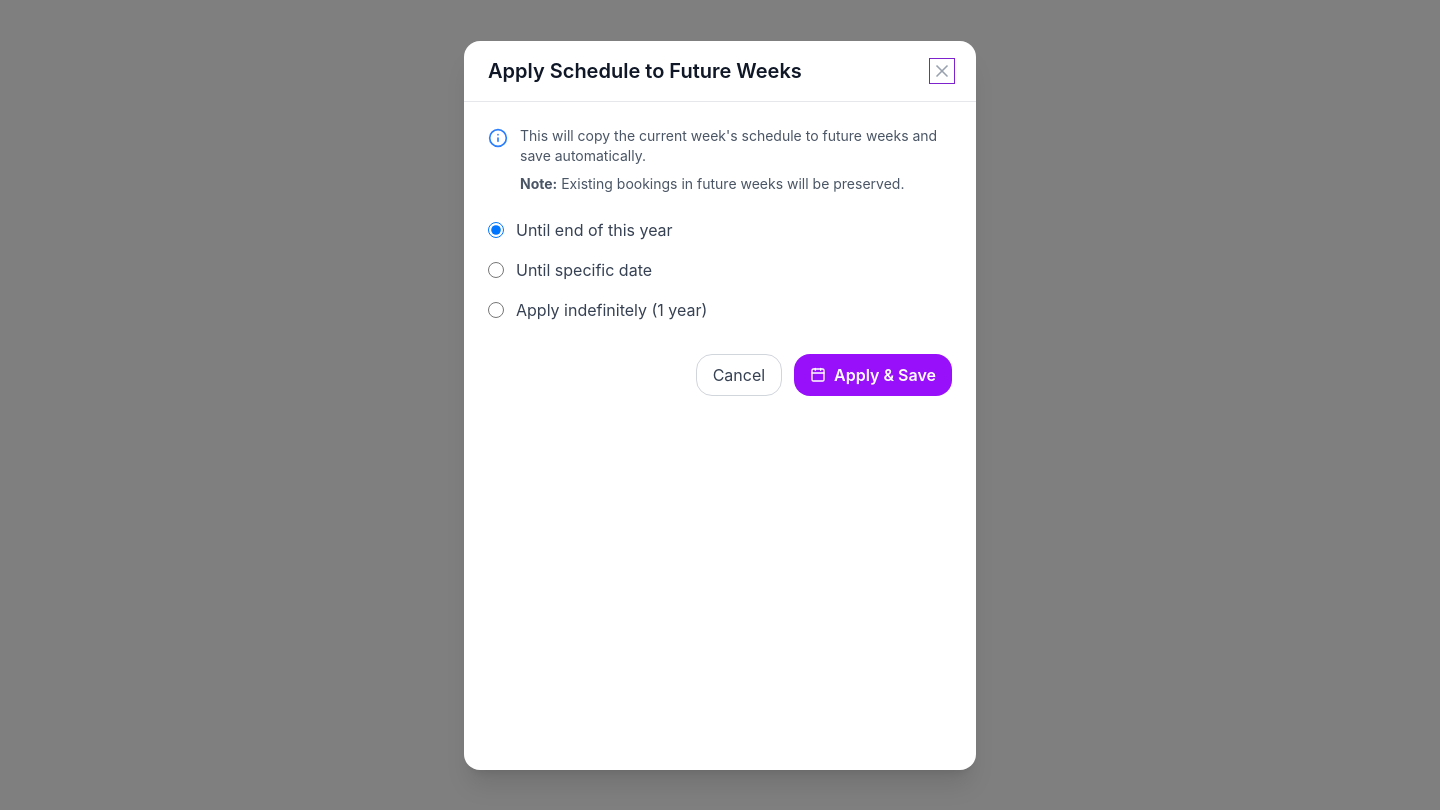
Test: ApplyToFutureWeeksModal › allows selecting specific date option
Click the radio button labelled "Until specific date" at (496, 270), box [488, 262, 504, 278]
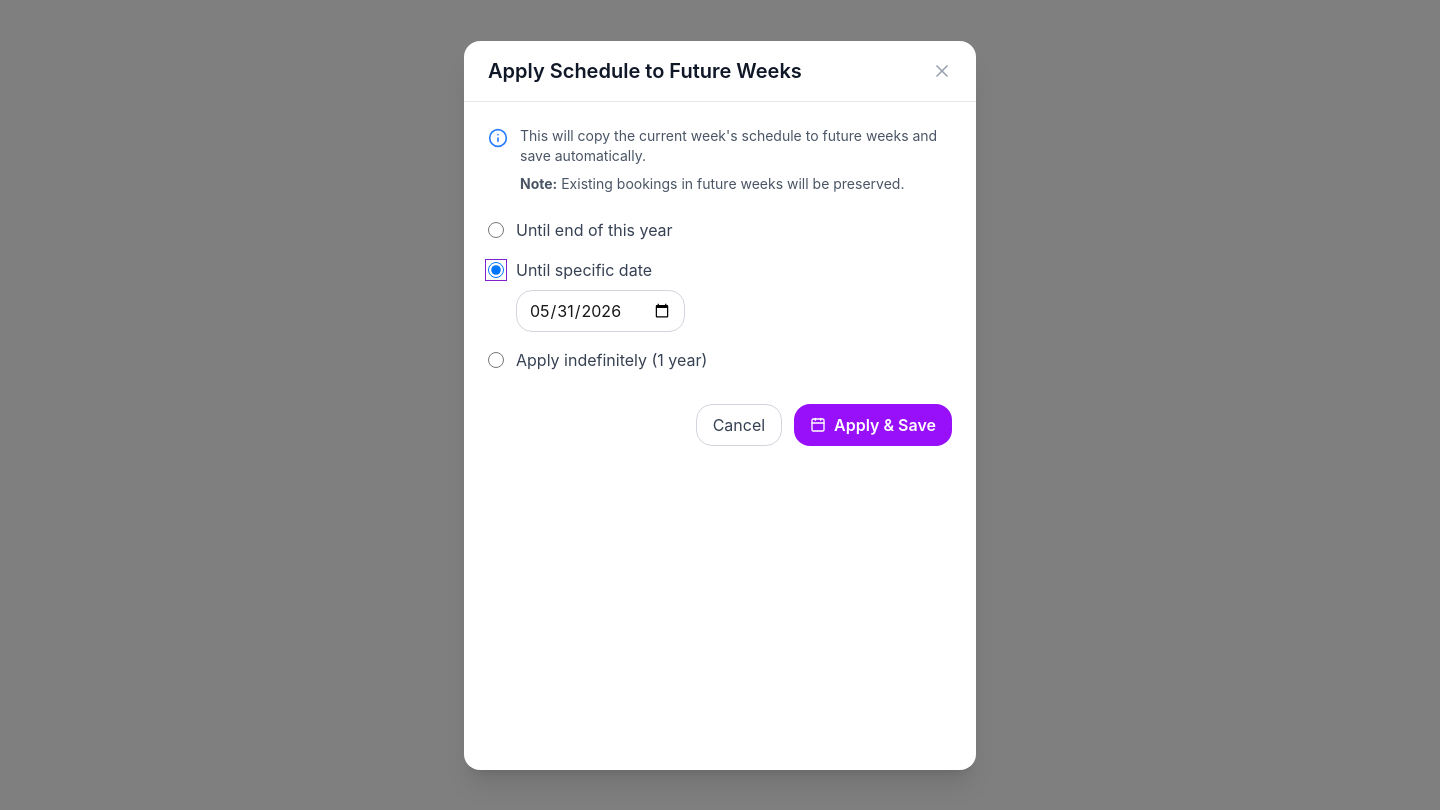
Check: the radio button labelled "Until specific date" is checked, box [488, 262, 504, 278]
Check: the date field named "select end date" is shown, box [516, 290, 685, 332]
